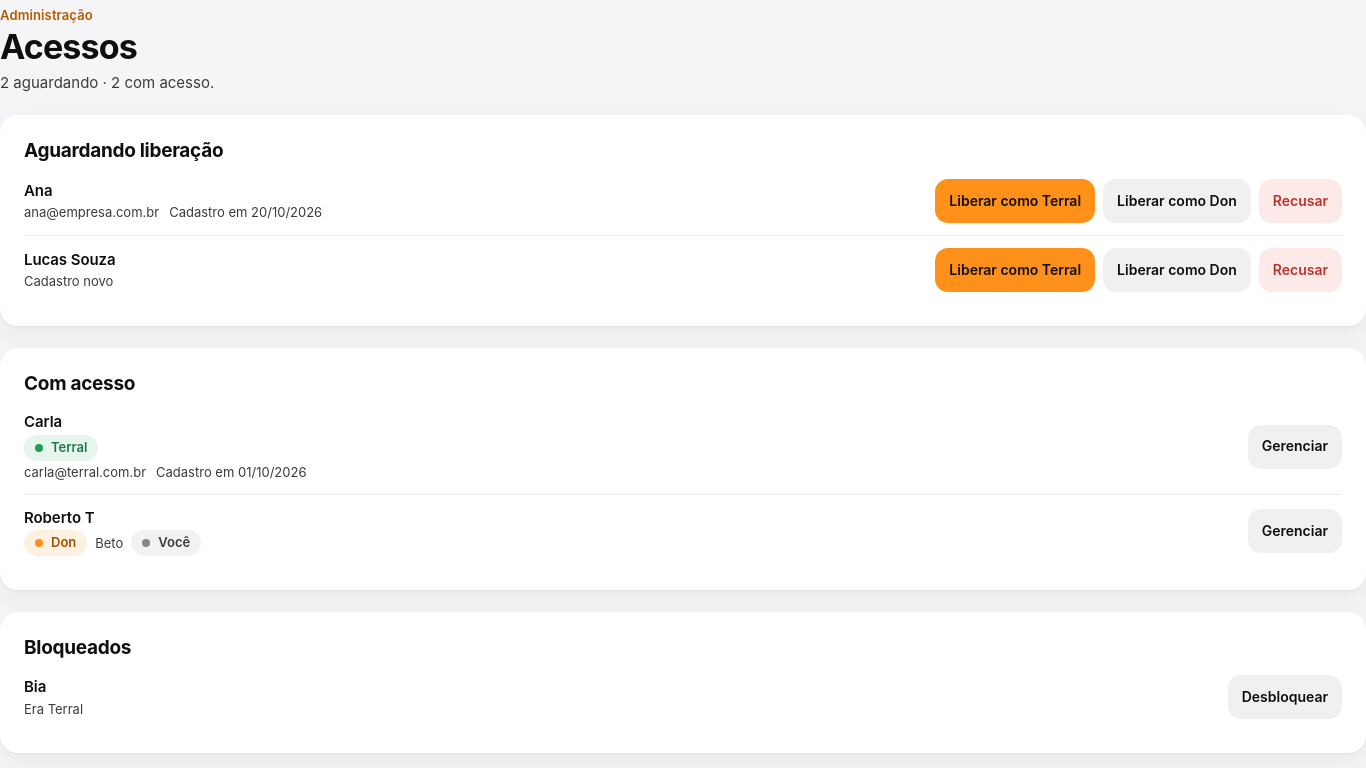
Test case: Acessos › never offers to block, demote or reset the signed-in Don
Expected: the text "Você" is shown, [131,530,201,556]
Click the button "Gerenciar" in the row of "Roberto T": (1295, 531) [1248,509,1342,553]
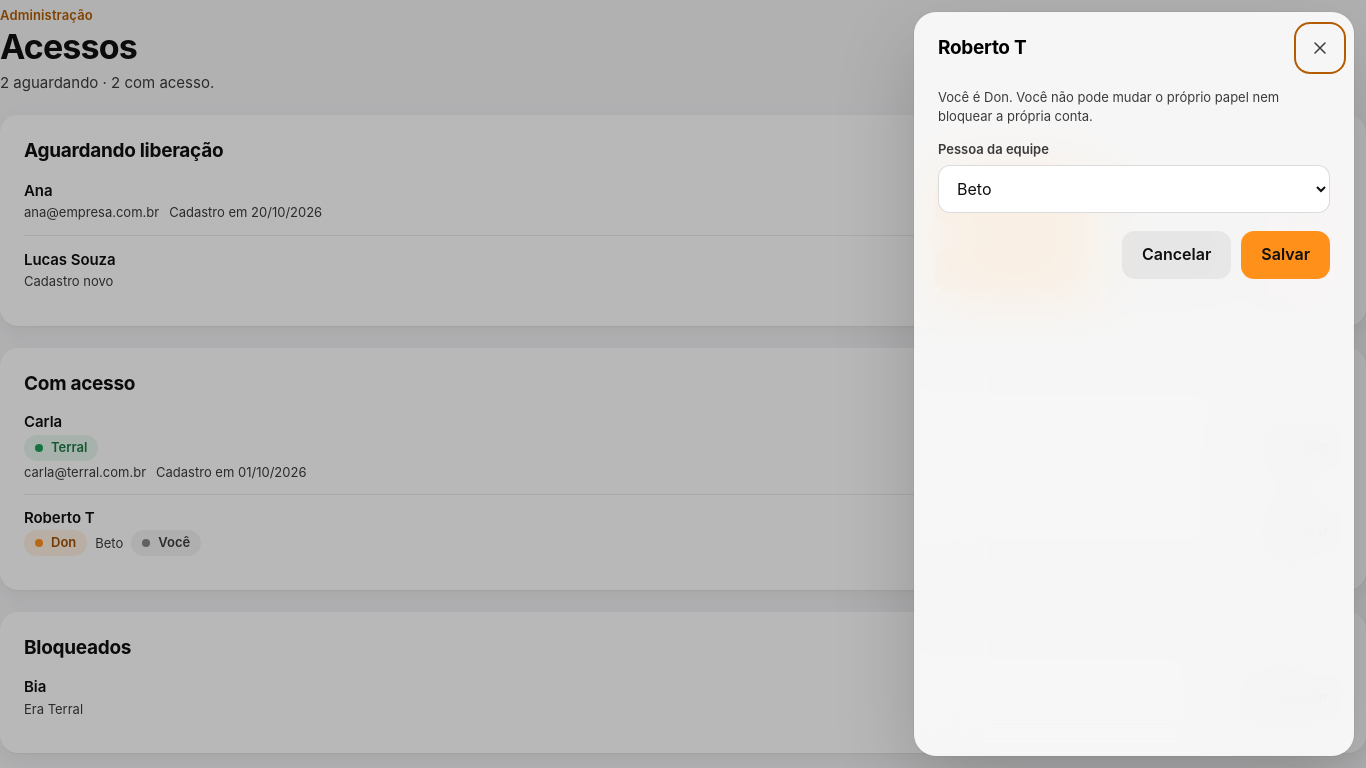
Result: the text "não pode mudar o próprio papel" is shown at [938,89,1279,124]
